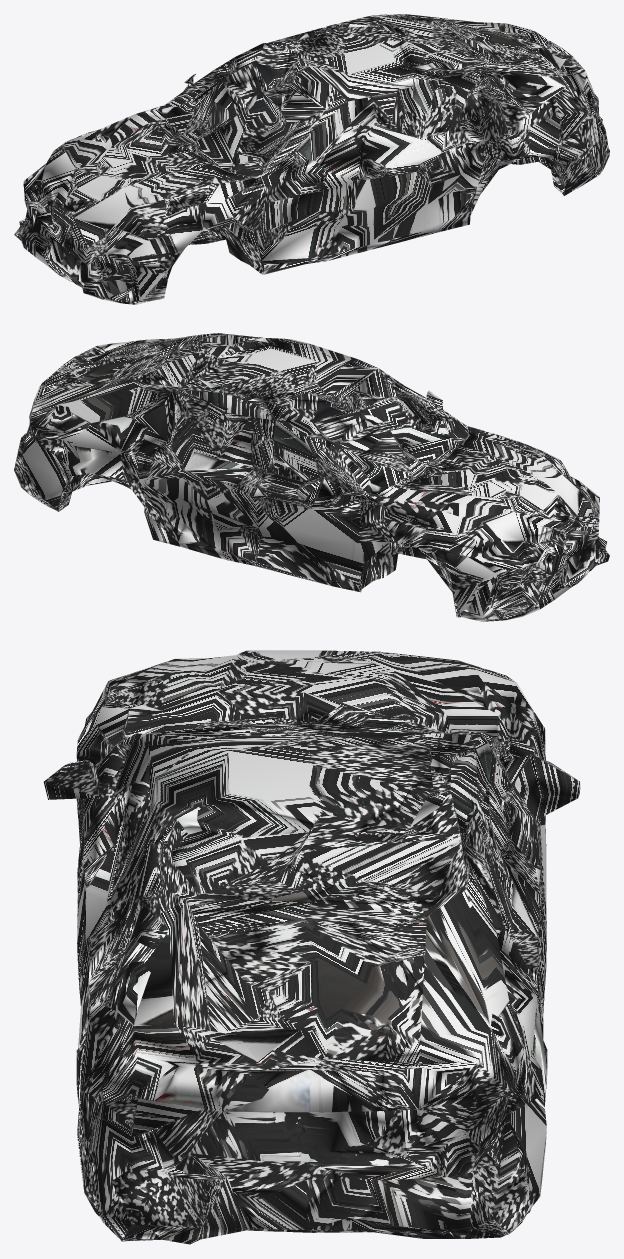
File: car_body_lod.glb
The picture shows the model from 3 angles, top to bottom: view 1: azimuth 30°, elevation 25°; view 2: azimuth 150°, elevation 25°; view 3: azimuth 270°, elevation 25°; orthographic projection. The views are drawn at different scales.
Bounding box in the file's own units: 1.9 × 0.5171 × 0.8362.
Materials: 1 (1 with a texture image).
